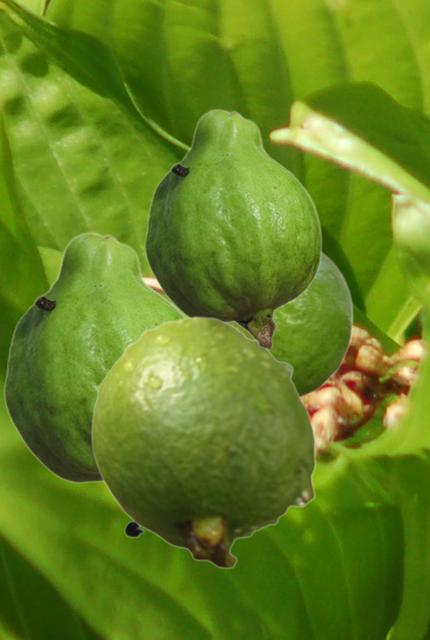guava: (90, 315, 315, 568), (2, 231, 184, 537), (143, 108, 321, 349), (231, 250, 353, 397)
